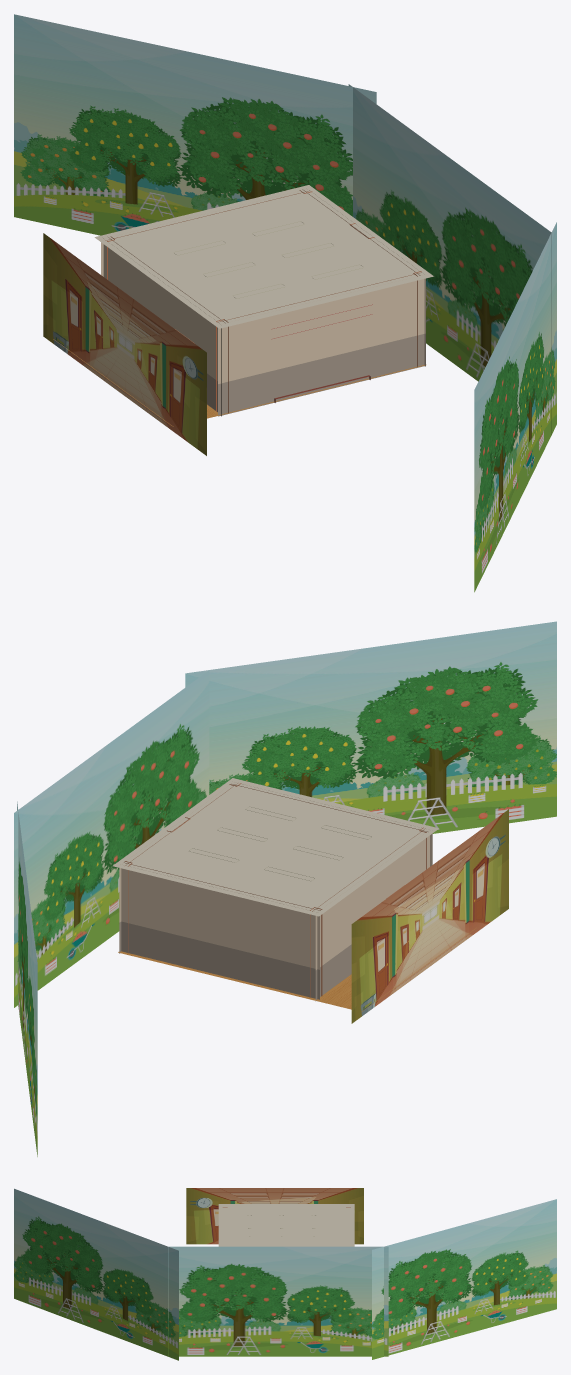
Rendered from room.fbx.
The picture shows the model from 3 angles, top to bottom: view 1: azimuth 30°, elevation 25°; view 2: azimuth 150°, elevation 25°; view 3: azimuth 270°, elevation 25°; orthographic projection. The views are drawn at different scales.
Visible parts, largest first — view 1: outdoor1, outdoor, ceiling, wall, corridor, outdoor2; view 2: outdoor2, outdoor, ceiling, wall, corridor, outdoor1, floor; view 3: outdoor, outdoor1, outdoor2, ceiling, corridor.
Part boxes in pixels (x1=…): outdoor1: x1=14, y1=14, x2=376, y2=235; outdoor: x1=348, y1=84, x2=551, y2=434; ceiling: x1=94, y1=185, x2=433, y2=328; wall: x1=101, y1=189, x2=425, y2=416; corridor: x1=43, y1=233, x2=206, y2=455; outdoor2: x1=474, y1=222, x2=556, y2=592; outdoor2: x1=185, y1=621, x2=556, y2=833; outdoor: x1=14, y1=670, x2=209, y2=1007; ceiling: x1=112, y1=778, x2=438, y2=916; wall: x1=119, y1=783, x2=432, y2=1001; corridor: x1=351, y1=809, x2=508, y2=1023; outdoor1: x1=17, y1=801, x2=37, y2=1156; floor: x1=118, y1=927, x2=476, y2=1011; outdoor: x1=168, y1=1246, x2=388, y2=1356; outdoor1: x1=372, y1=1199, x2=556, y2=1359; outdoor2: x1=14, y1=1188, x2=178, y2=1360; ceiling: x1=218, y1=1204, x2=354, y2=1246; corridor: x1=186, y1=1188, x2=363, y2=1244.
Size of the model in its own units: 1653 by 932 by 4165.
14 materials, 4 textured.
